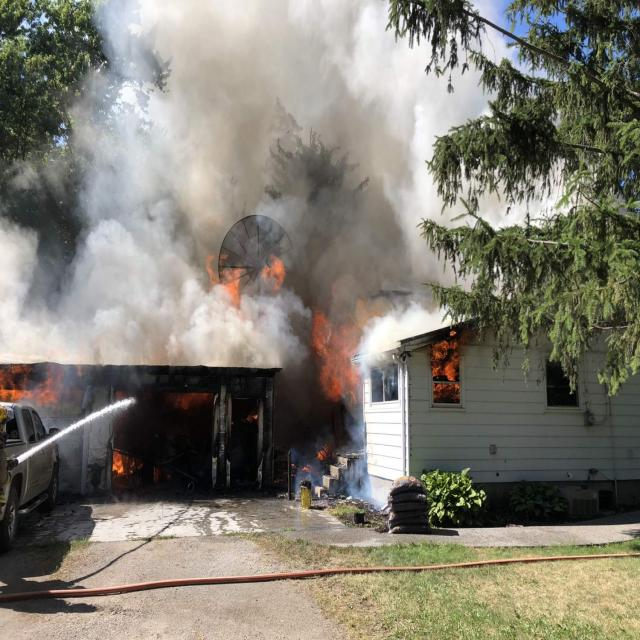fire: (312, 314, 358, 399), (1, 367, 58, 407), (428, 338, 462, 402)
smoke: (115, 5, 424, 212), (2, 224, 207, 357), (306, 219, 428, 305), (212, 295, 302, 370)
